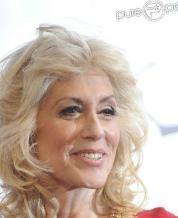face: (59, 97, 116, 169)
